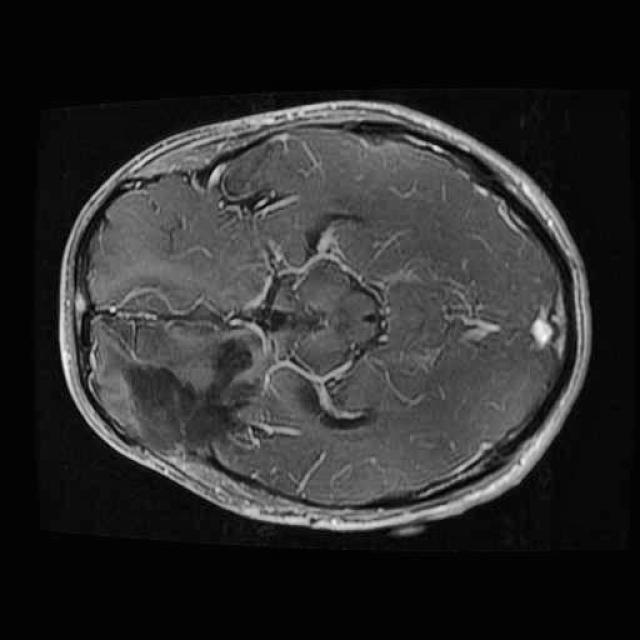Tumor: (88, 326, 268, 466)
